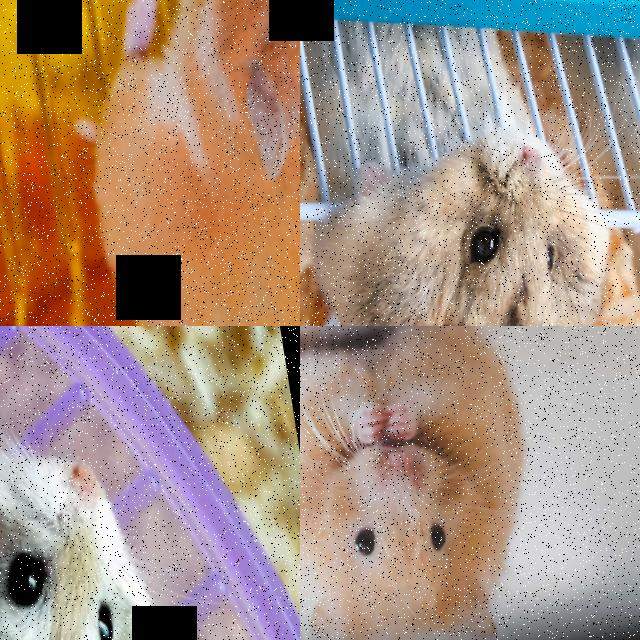hamster: (300, 0, 633, 326), (43, 0, 300, 326), (300, 326, 563, 640), (0, 420, 205, 640)
